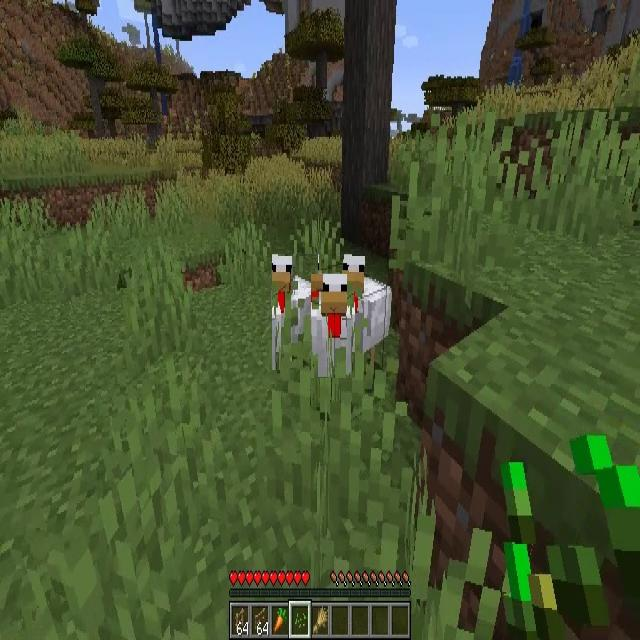duck: (272, 254, 318, 370), (345, 254, 391, 360), (311, 274, 355, 378)
